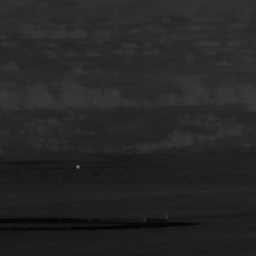Target: (75, 164, 81, 170)
